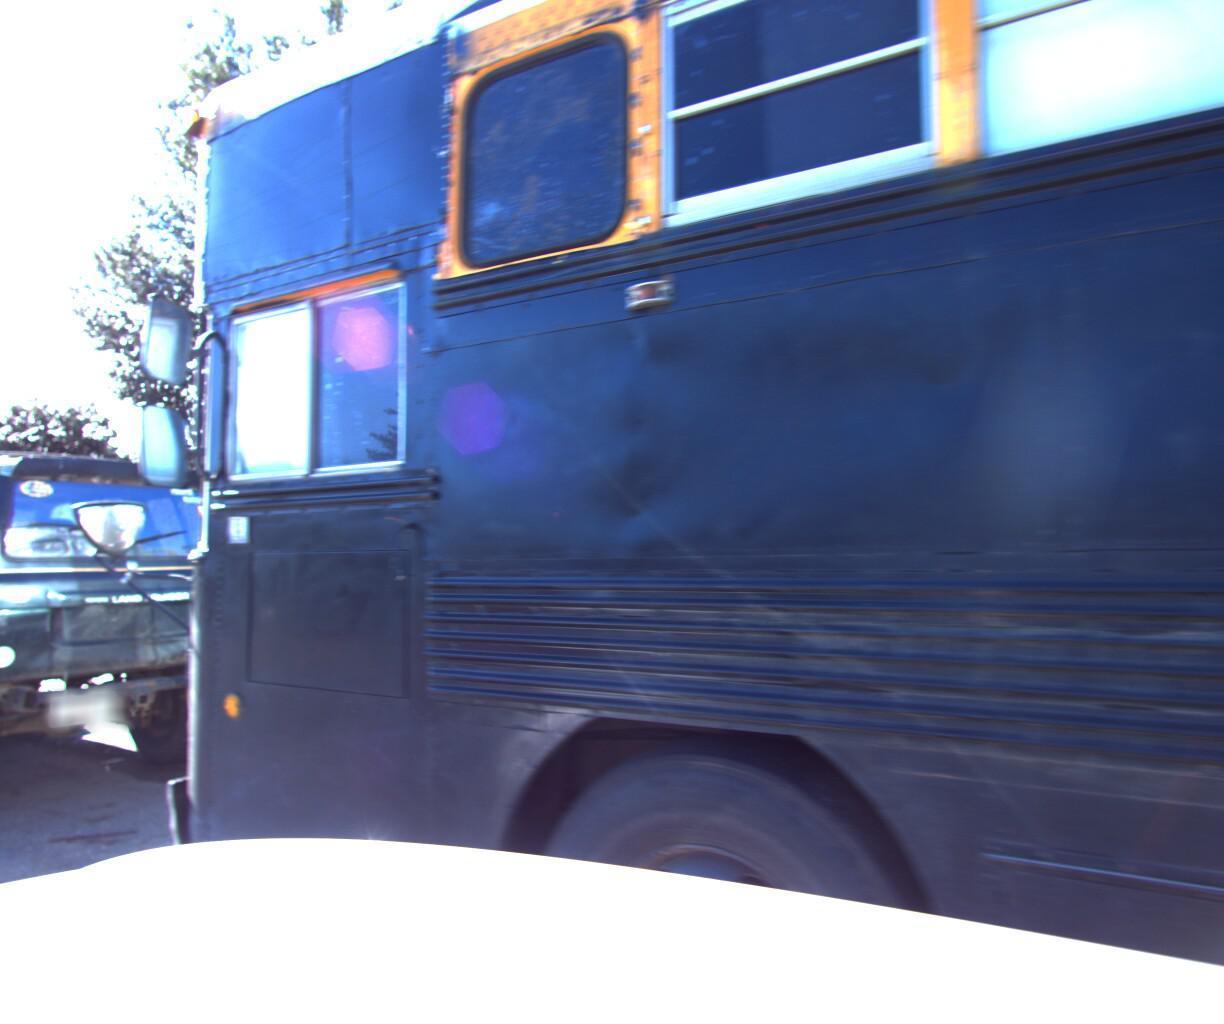car: (0, 426, 292, 880)
